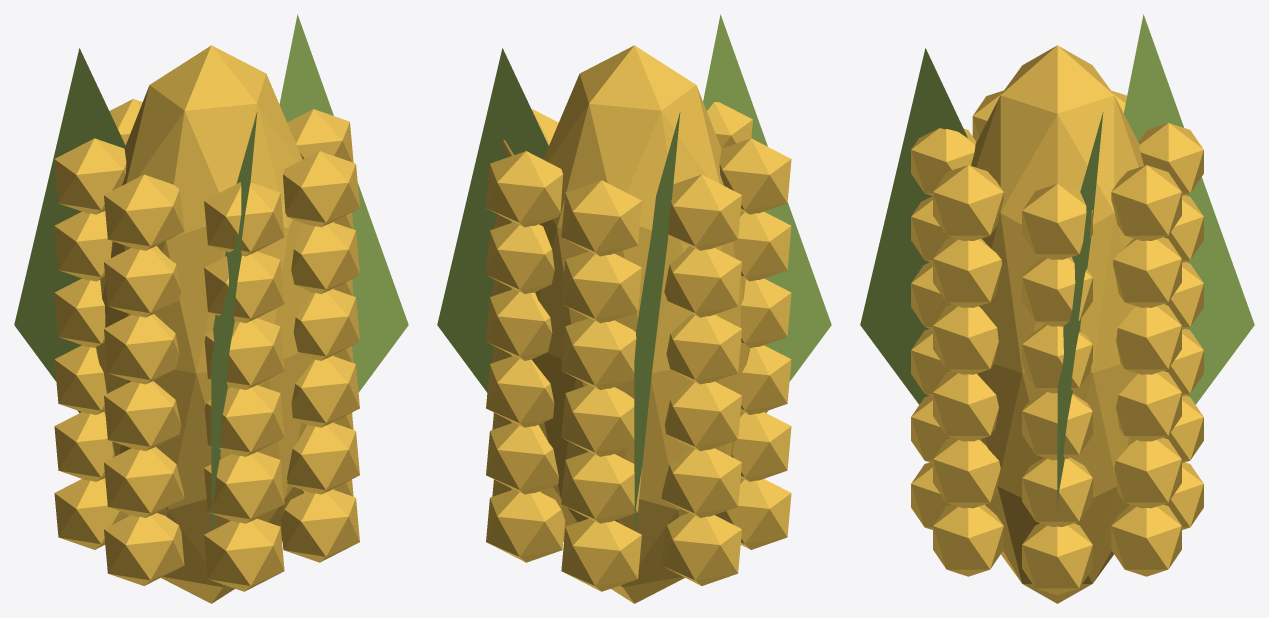
File: Mazorcas.fbx
The picture shows the model from 3 angles, left to right: view 1: azimuth 30°, elevation 25°; view 2: azimuth 150°, elevation 25°; view 3: azimuth 270°, elevation 25°; orthographic projection.
Parts seen in each view (by area): view 1: Mazorcas; view 2: Mazorcas; view 3: Mazorcas.
Boxes of the visible parts, <box> form: Mazorcas: <box>14,14,408,603</box>; Mazorcas: <box>437,14,831,603</box>; Mazorcas: <box>860,14,1254,603</box>.
Size of the model in its own units: 0.2806 by 0.46 by 0.2944.
